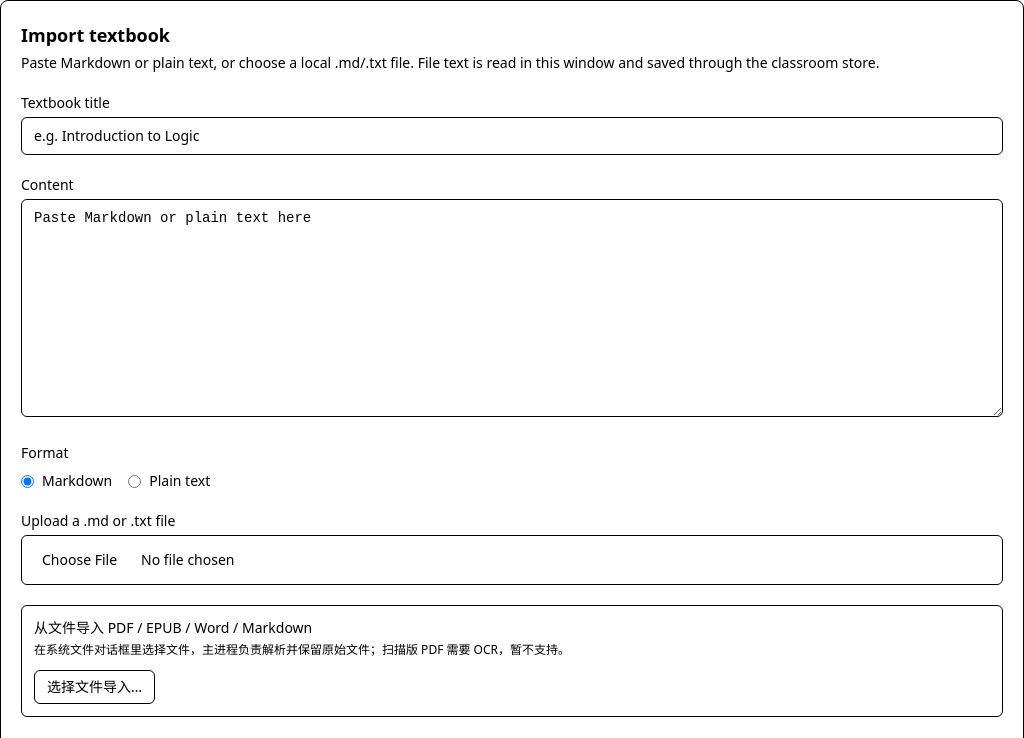
it: TextbookImporter › writes the saved textbook id to ClassroomContext and previews the content
Type "Intro to Logic" into the field labelled "Textbook title" at (512, 136), box [21,117,1003,155]
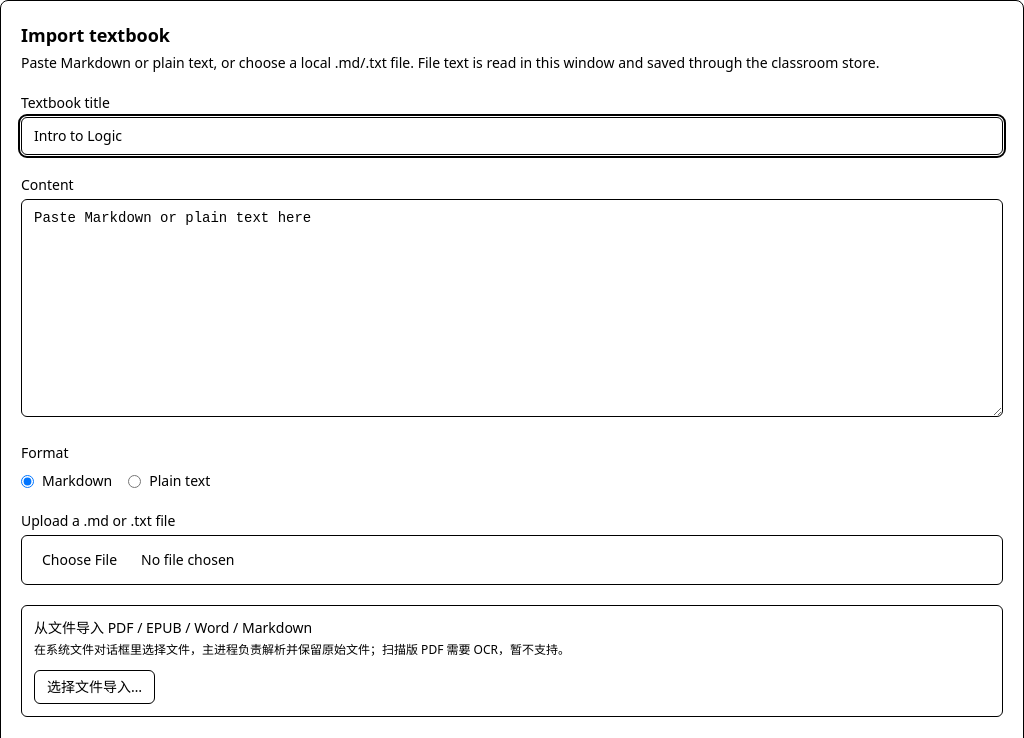
Type "Logic is fun." into the text box labelled "Content" at (512, 308), box [21,199,1003,417]
(page scrolled)
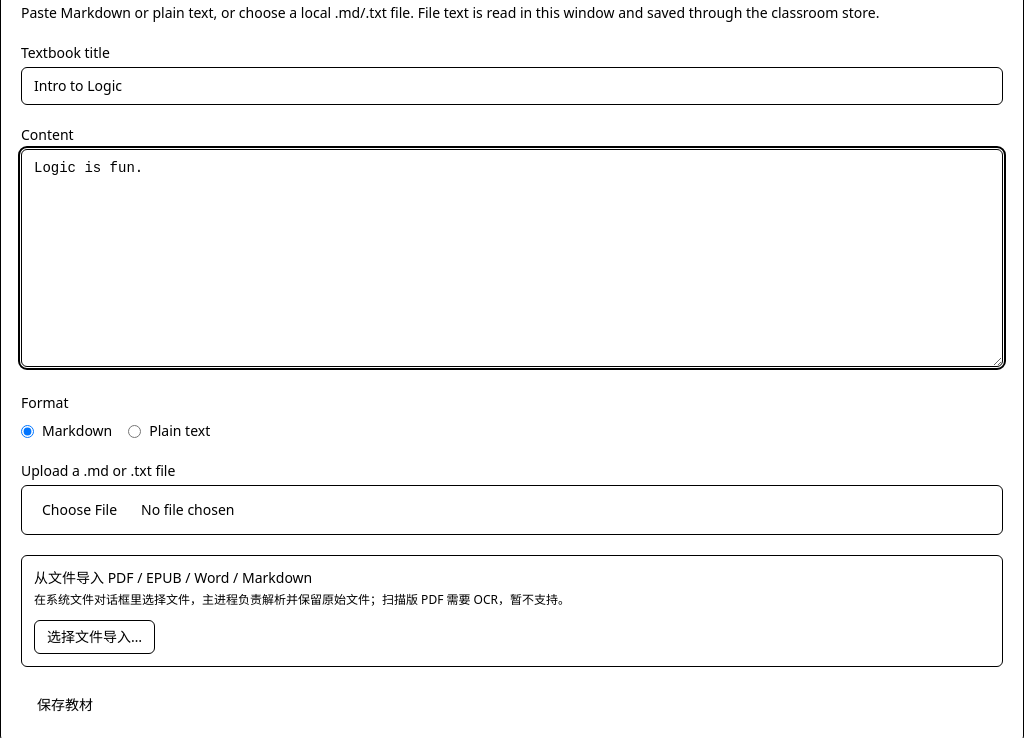
Click the button "保存教材" at (65, 705), box [21,687,109,723]
(page scrolled)
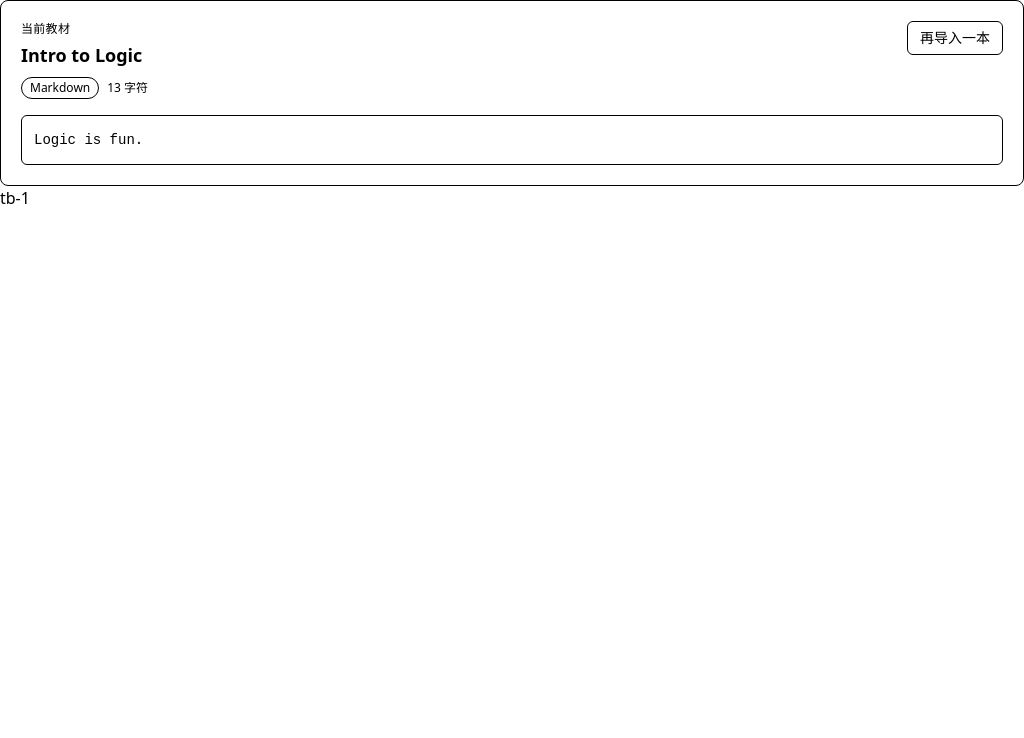
Now the text with test id "selected-textbook-id" reads "tb-1", box [0,187,30,209]
Now the heading "Intro to Logic" is shown, box [21,41,148,69]
Now the text "Logic is fun." is shown, box [21,115,1003,165]
